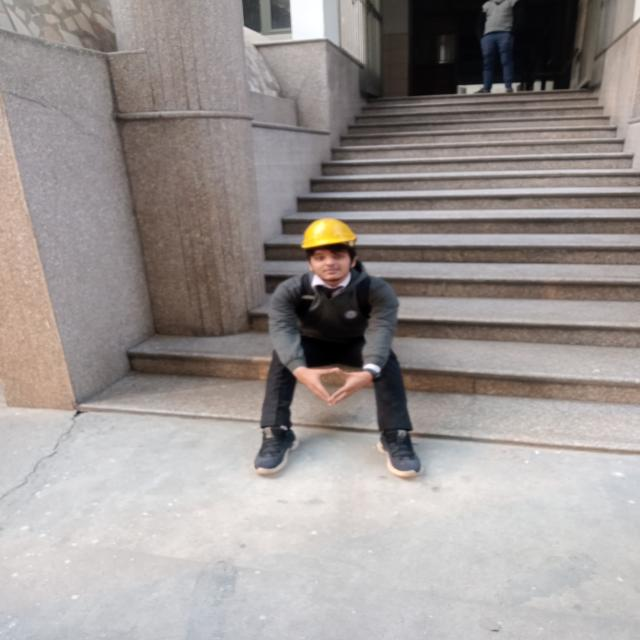unsafe: (257, 214, 424, 481)
